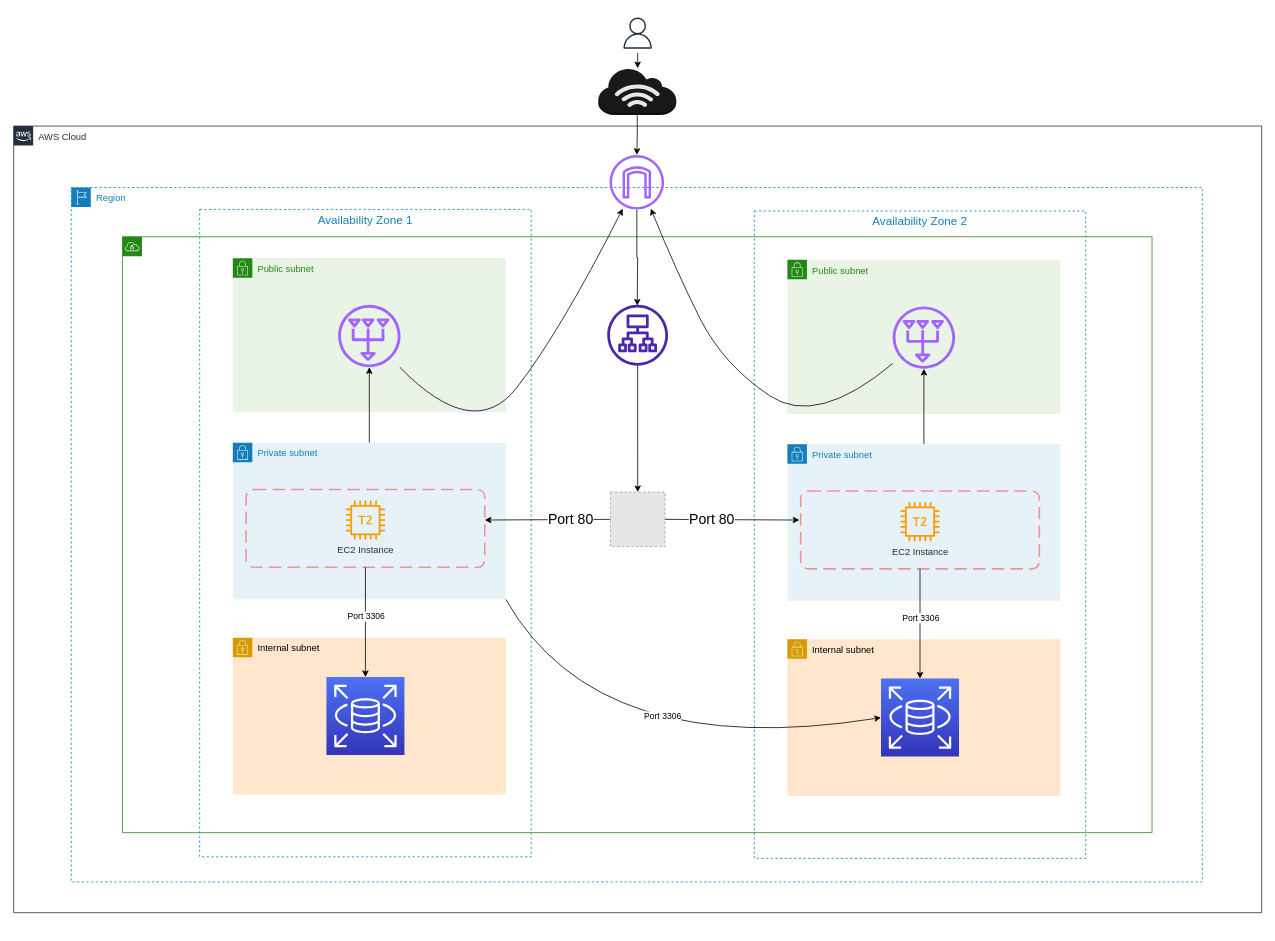
This 1275x941 diagram has some shape labels left out. Grey dashed boxes stand in for pictures. The shapes that lost their labels are listed below. From the top down, each one's box as (x1, y1, x2, y2) in pixels, then its label:
(122, 236, 1152, 833): VPC
(326, 676, 404, 755): MySQL Database on RDS
(880, 678, 959, 757): MySQL Failover
